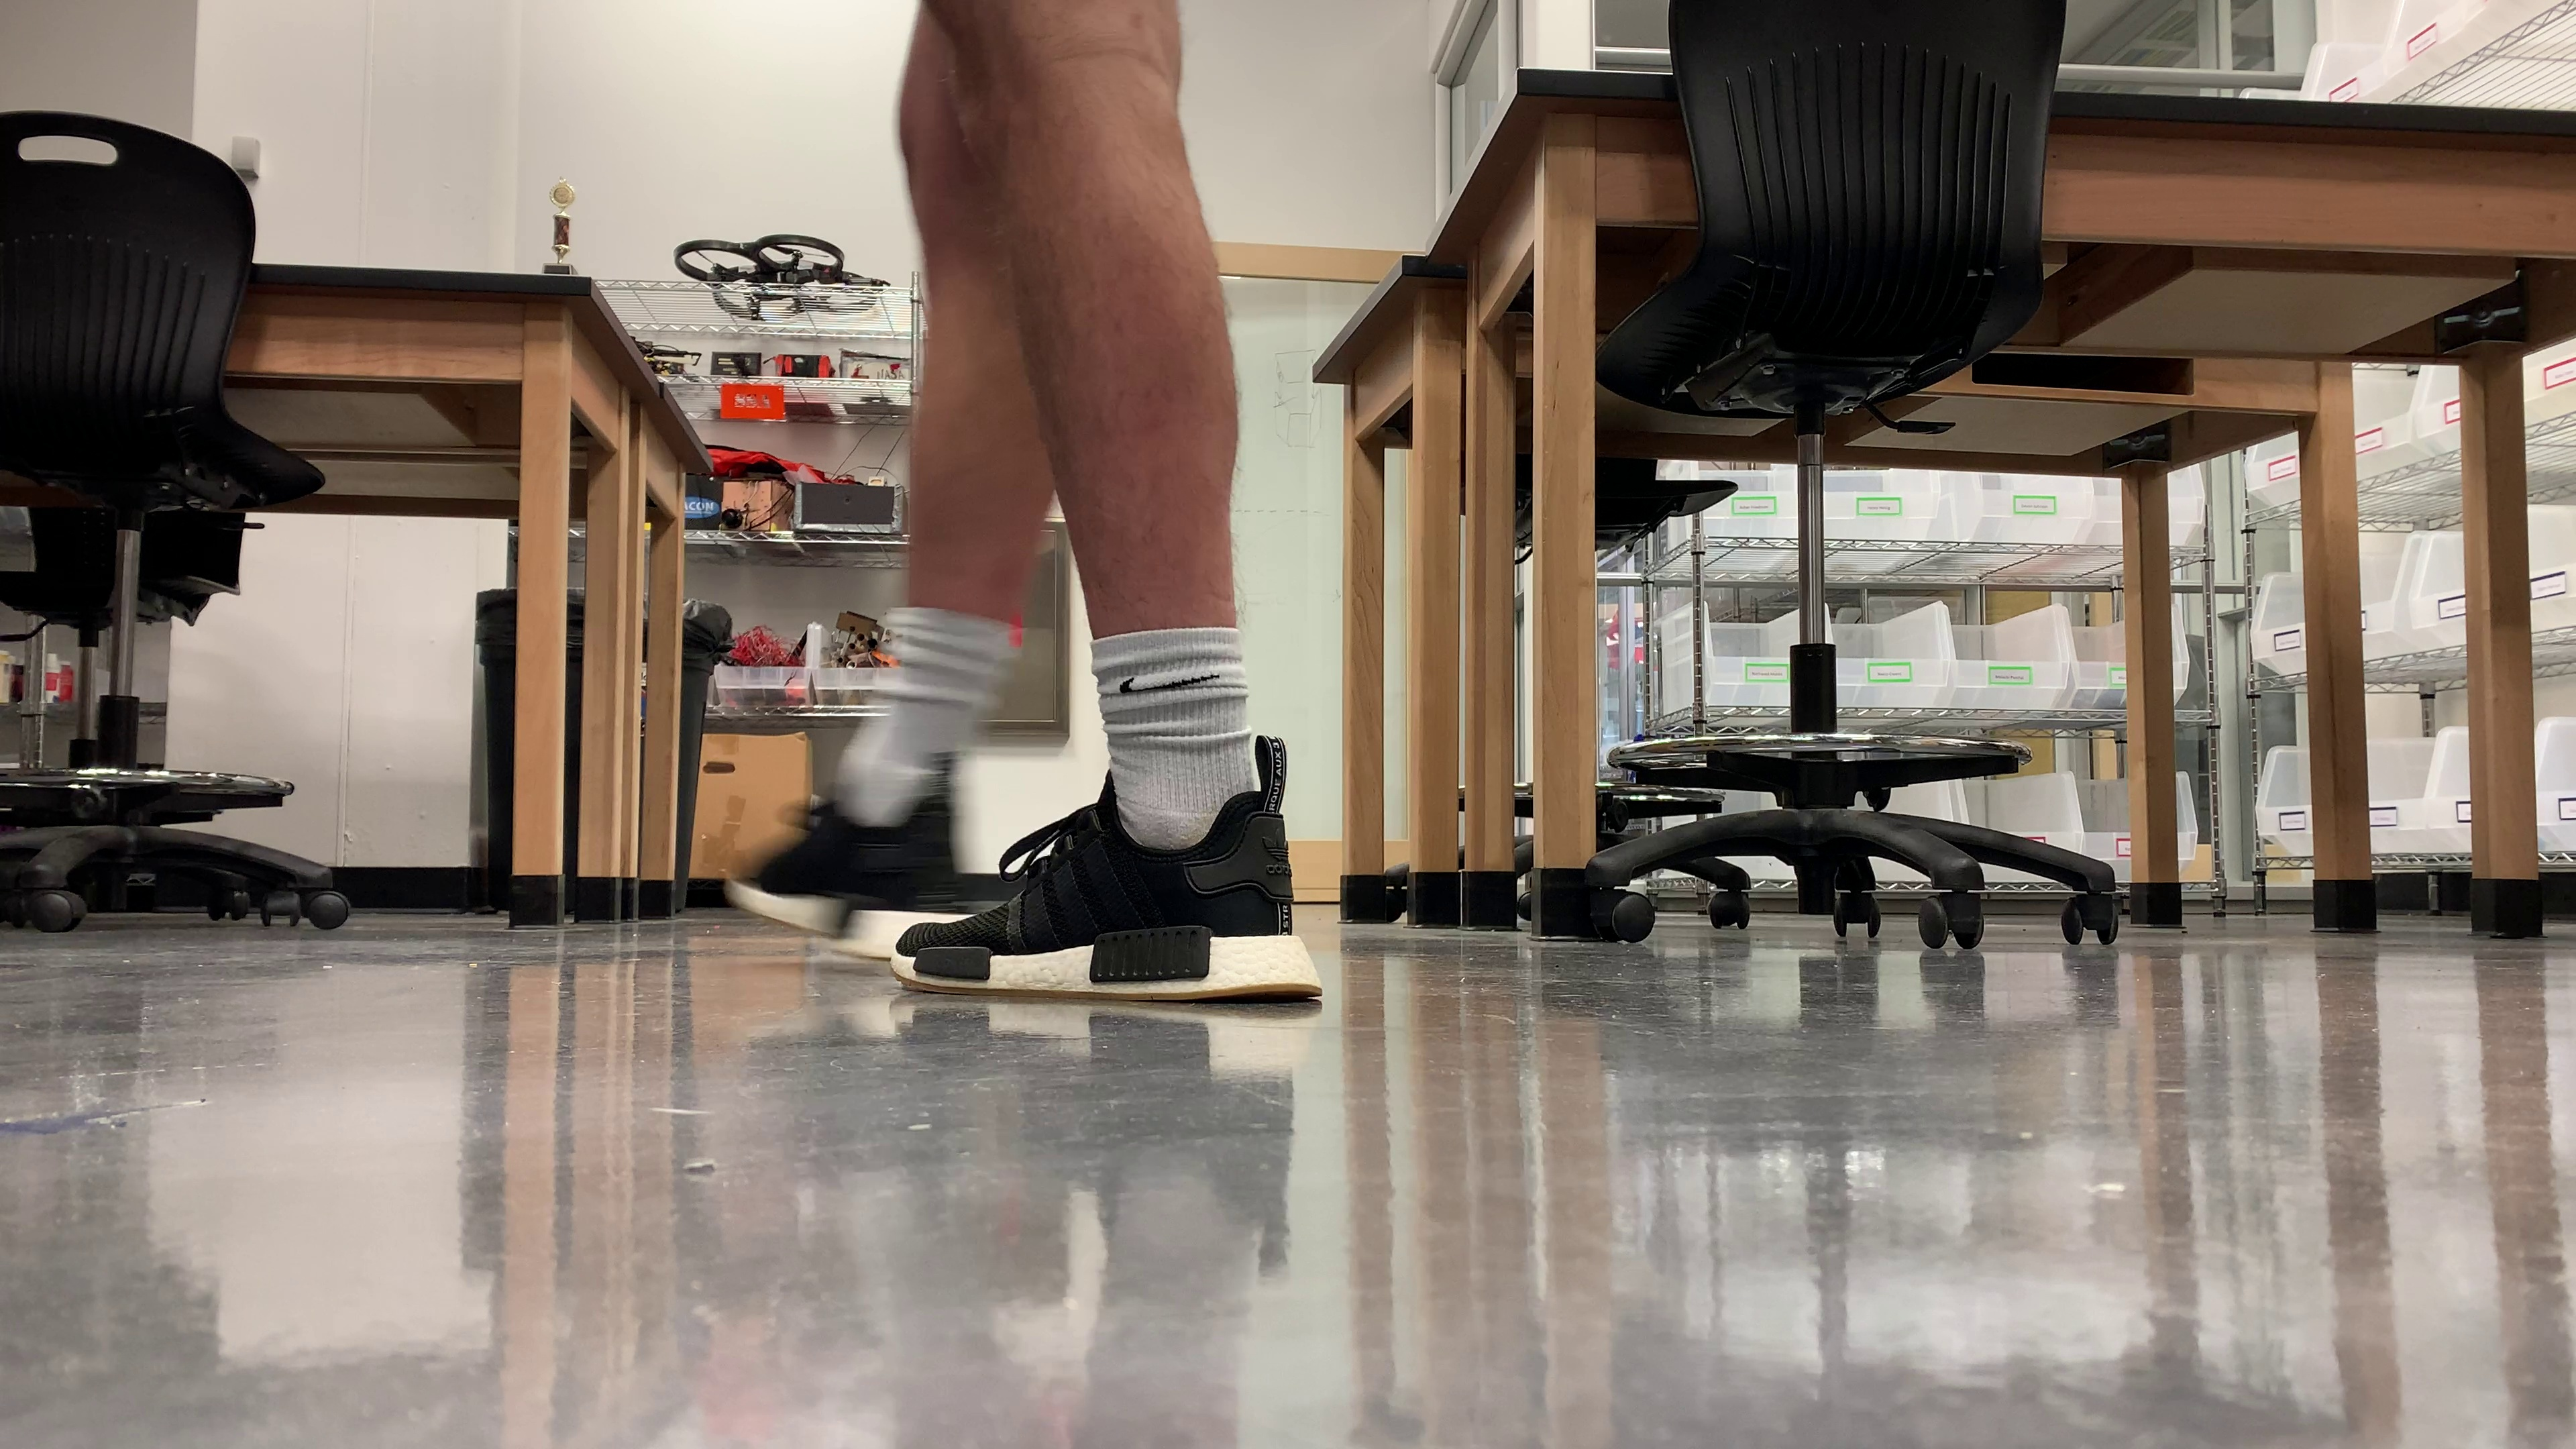shoe: (890, 770, 1323, 1000)
